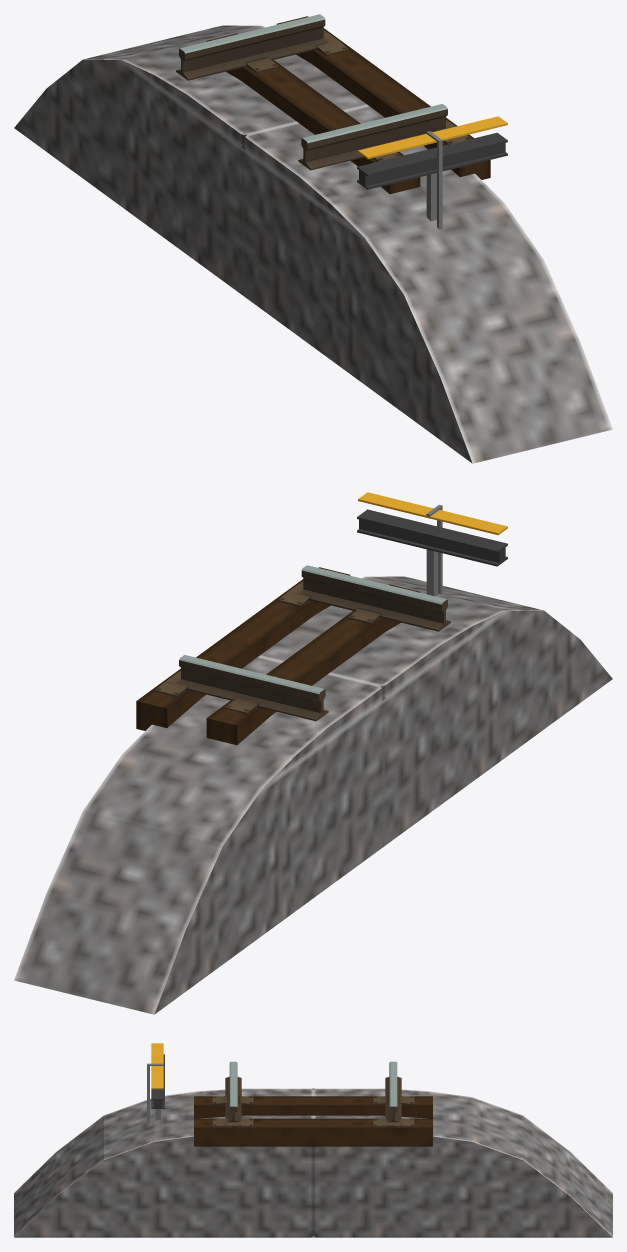
Rendered from spsf_3rdrail_ballast_2_left.obj.
The picture shows the model from 3 angles, top to bottom: view 1: azimuth 30°, elevation 25°; view 2: azimuth 150°, elevation 25°; view 3: azimuth 270°, elevation 25°; orthographic projection. The views are drawn at different scales.
Parts seen in each view (by area): view 1: RAIL_BASE.001_Cube.009, RAIL_BASE_Cube.001, RAIL_BASE.006_RAIL_BASE.004, RAIL_RIGHT_Cube.010, RAIL_LEFT_Cube.002, RAIL_BASE.002_RAIL_BASE.007, RAIL_BASE.003_RAIL_BASE.006, RAIL_BASE.004_RAIL_BASE.008, RAIL_BASE.005_Cube.003; view 2: RAIL_BASE.001_Cube.009, RAIL_BASE_Cube.001, RAIL_BASE.006_RAIL_BASE.004, RAIL_RIGHT_Cube.010, RAIL_LEFT_Cube.002, RAIL_BASE.002_RAIL_BASE.007, RAIL_BASE.003_RAIL_BASE.006, RAIL_BASE.004_RAIL_BASE.008, RAIL_BASE.005_Cube.003; view 3: RAIL_BASE.001_Cube.009, RAIL_BASE.003_RAIL_BASE.006, RAIL_BASE_Cube.001, RAIL_BASE.002_RAIL_BASE.007, RAIL_BASE.004_RAIL_BASE.008, RAIL_BASE.005_Cube.003, RAIL_BASE.006_RAIL_BASE.004, RAIL_LEFT_Cube.002, RAIL_RIGHT_Cube.010.
Boxes of the visible parts, x1=… form: RAIL_BASE.001_Cube.009: x1=14, y1=25, x2=612, y2=463; RAIL_BASE_Cube.001: x1=122, y1=26, x2=504, y2=237; RAIL_BASE.006_RAIL_BASE.004: x1=357, y1=116, x2=507, y2=229; RAIL_RIGHT_Cube.010: x1=176, y1=14, x2=326, y2=80; RAIL_LEFT_Cube.002: x1=298, y1=104, x2=447, y2=170; RAIL_BASE.002_RAIL_BASE.007: x1=277, y1=16, x2=490, y2=179; RAIL_BASE.003_RAIL_BASE.006: x1=206, y1=24, x2=459, y2=193; RAIL_BASE.004_RAIL_BASE.008: x1=207, y1=33, x2=420, y2=194; RAIL_BASE.005_Cube.003: x1=246, y1=30, x2=471, y2=161; RAIL_BASE.001_Cube.009: x1=14, y1=576, x2=612, y2=1014; RAIL_BASE_Cube.001: x1=122, y1=577, x2=504, y2=788; RAIL_BASE.006_RAIL_BASE.004: x1=357, y1=492, x2=507, y2=596; RAIL_RIGHT_Cube.010: x1=178, y1=655, x2=328, y2=721; RAIL_LEFT_Cube.002: x1=300, y1=565, x2=450, y2=631; RAIL_BASE.002_RAIL_BASE.007: x1=136, y1=567, x2=349, y2=730; RAIL_BASE.003_RAIL_BASE.006: x1=167, y1=575, x2=420, y2=744; RAIL_BASE.004_RAIL_BASE.008: x1=206, y1=584, x2=419, y2=745; RAIL_BASE.005_Cube.003: x1=154, y1=581, x2=380, y2=714; RAIL_BASE.001_Cube.009: x1=14, y1=1097, x2=612, y2=1237; RAIL_BASE.003_RAIL_BASE.006: x1=194, y1=1106, x2=432, y2=1146; RAIL_BASE_Cube.001: x1=154, y1=1088, x2=472, y2=1141; RAIL_BASE.002_RAIL_BASE.007: x1=194, y1=1118, x2=432, y2=1128; RAIL_BASE.004_RAIL_BASE.008: x1=194, y1=1096, x2=432, y2=1106; RAIL_BASE.005_Cube.003: x1=212, y1=1096, x2=414, y2=1127; RAIL_BASE.006_RAIL_BASE.004: x1=147, y1=1043, x2=164, y2=1122; RAIL_LEFT_Cube.002: x1=225, y1=1061, x2=241, y2=1121; RAIL_RIGHT_Cube.010: x1=385, y1=1061, x2=401, y2=1121.
Size of the model in its own units: 1.11 by 1.58 by 5.66.
2 materials, 2 textured.
